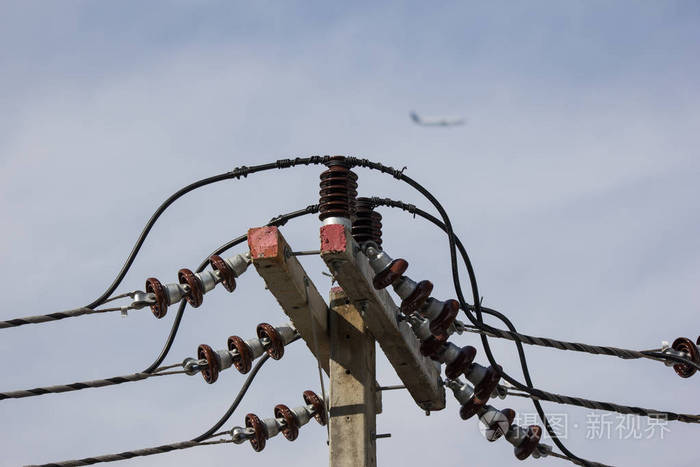insulator: (456, 394, 545, 466), (375, 255, 456, 330), (147, 255, 236, 318), (197, 322, 284, 385), (427, 331, 507, 397), (247, 388, 325, 454), (318, 169, 356, 219), (668, 330, 700, 378), (351, 211, 385, 245)
